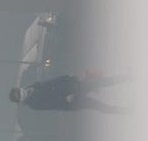person: (8, 73, 138, 116)
